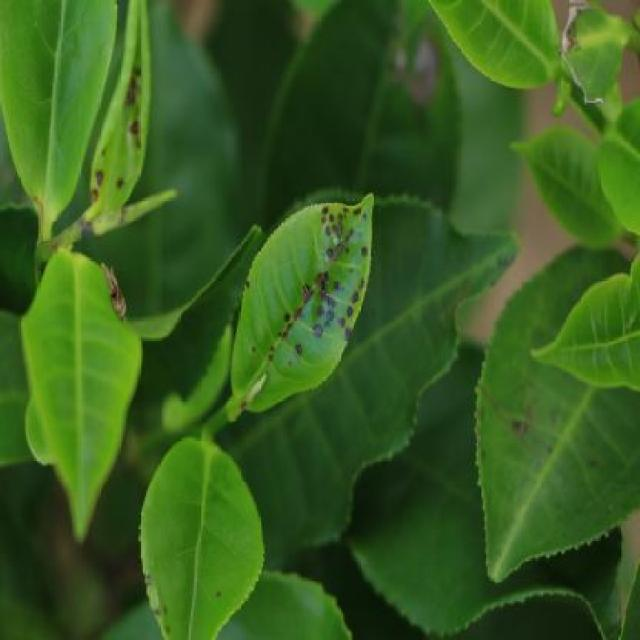Tea Mosquito bug infested leaf: (231, 182, 378, 416), (88, 6, 150, 240)
